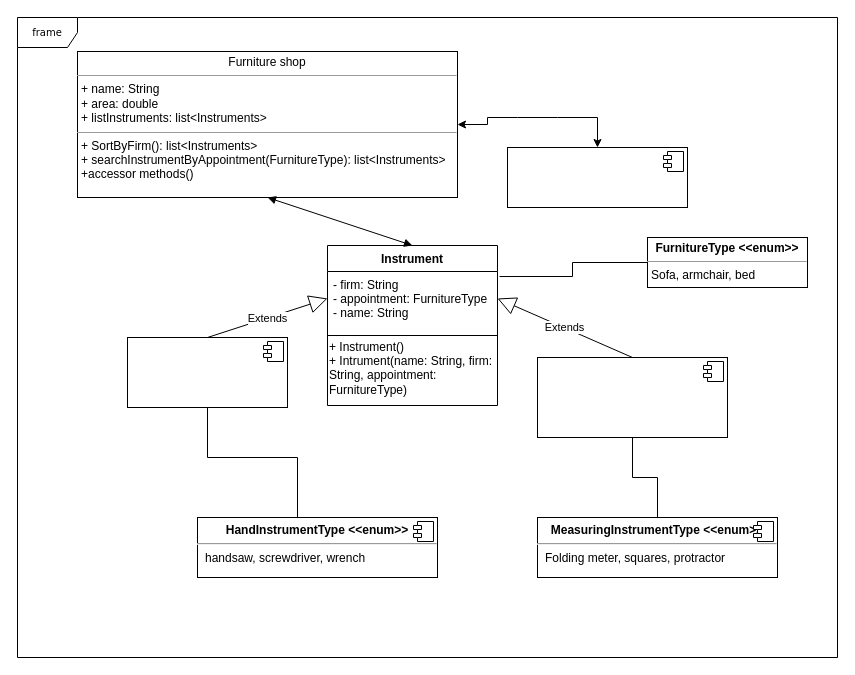
Some shapes in this 855 by 675 pixel diagram are drawn without their labels. The shapes that lost their labels are listed below. From the top down, each one's centre as x and y in pixels, then its label:
At pixel 597 177: "Firm<<enum>> + Tm Force, Tm Matrix, Bosh".
At pixel 207 372: "HandInstrument +accessor methods() + toMakeAShape(): String".
At pixel 632 397: "MeasuringInstruments +accessor methods() + measureDistance(): double".
